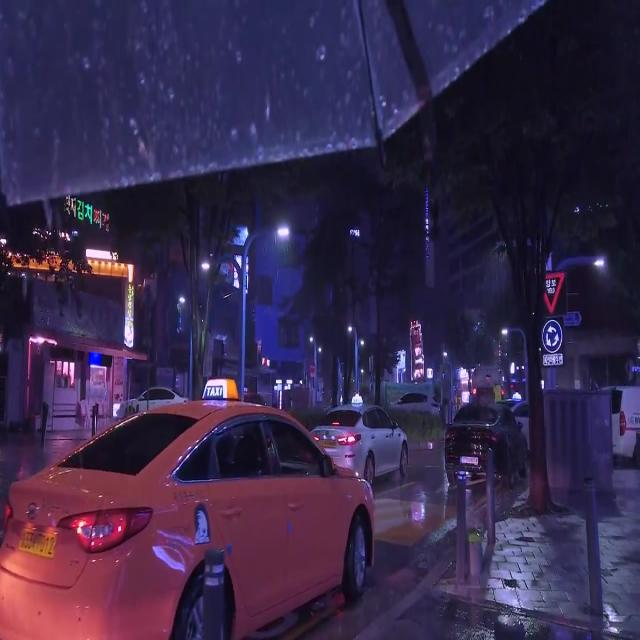Car: (8, 396, 376, 639), (331, 401, 408, 482), (443, 405, 525, 480)
